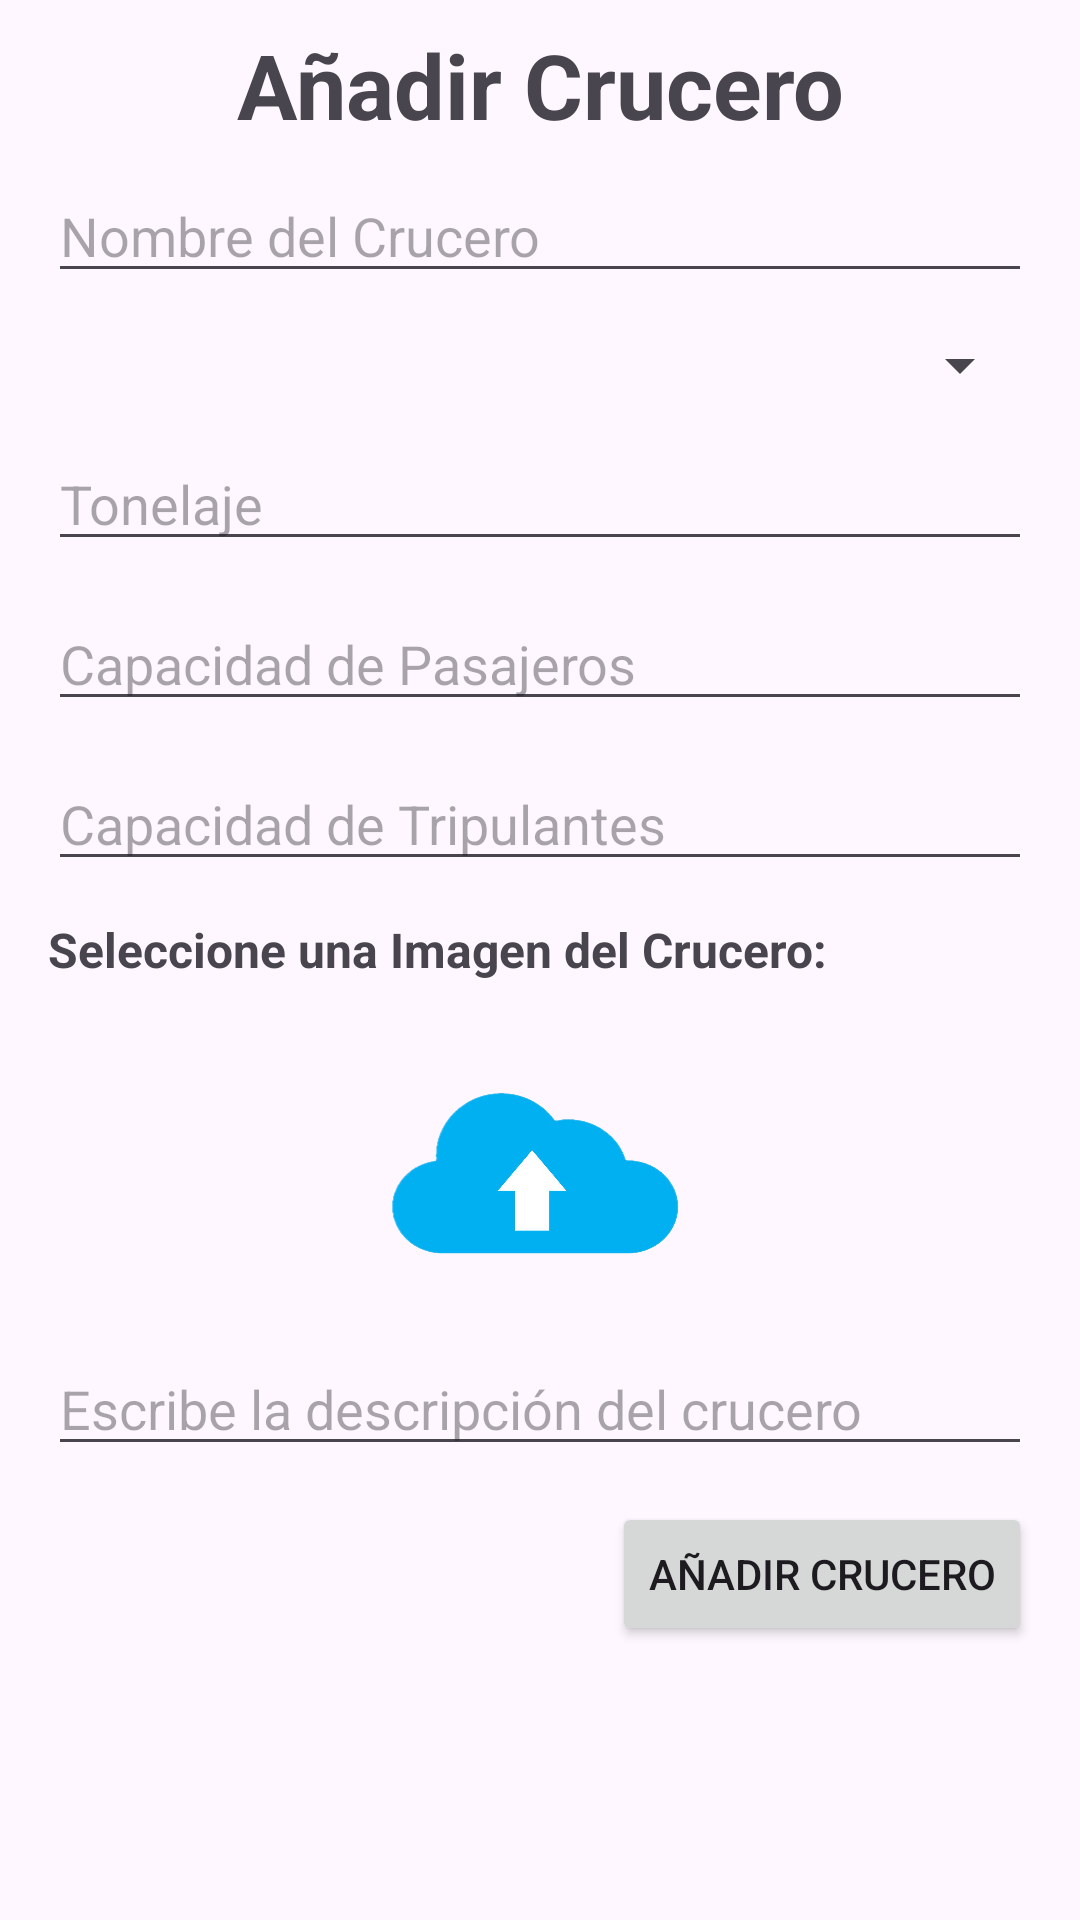

Locate icon controls on the screen. Image size 1080*1920, boxes as bbox(x1, y1, x2, y2).
upload: bbox(392, 1093, 678, 1254)
